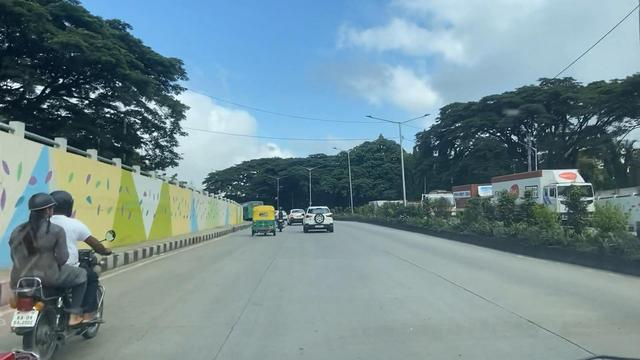LMV: (15, 190, 101, 355), (253, 206, 275, 235), (306, 207, 332, 231)
